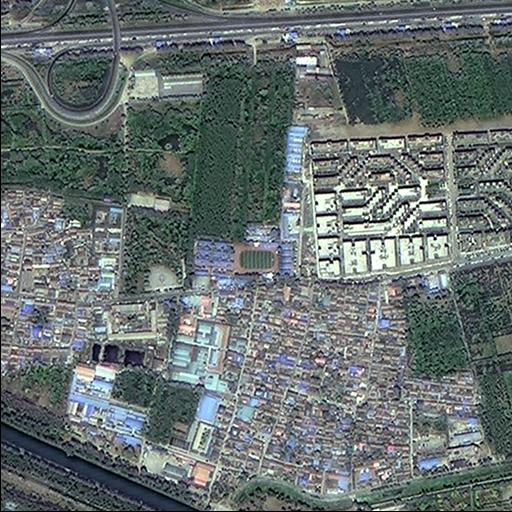school: (230, 241, 296, 277)
